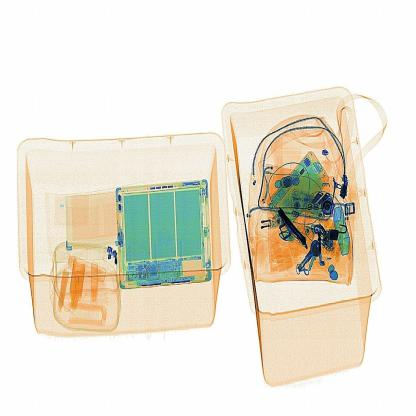knife: (269, 204, 308, 256)
